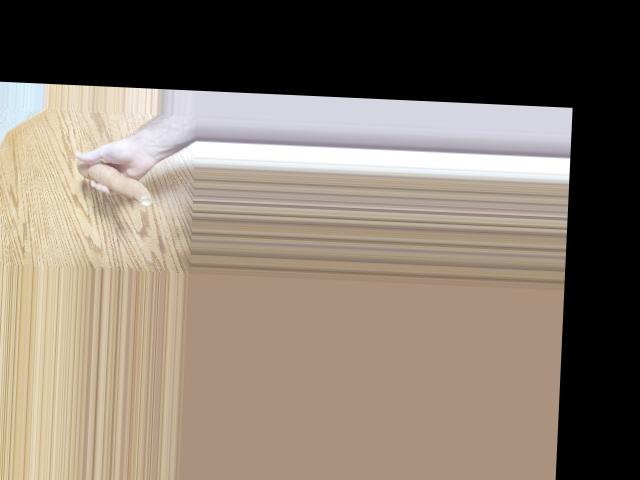sweet_potato: (78, 160, 157, 206)
